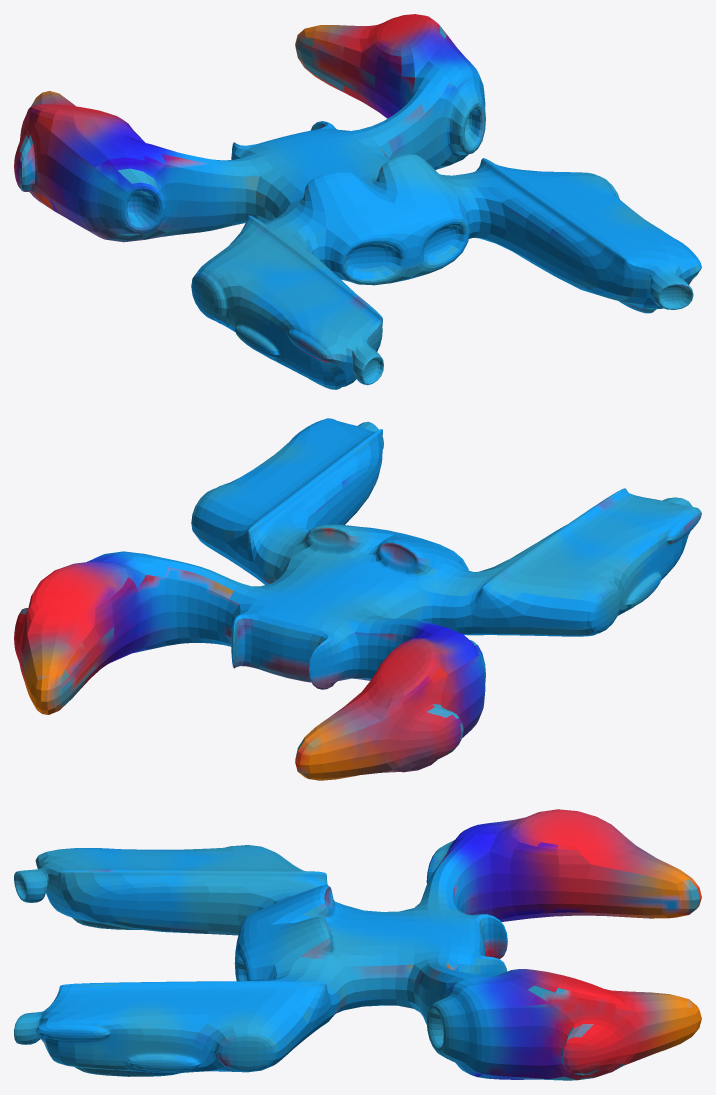
The model's file is particle3.glb.
3 renders of one model, top to bottom at view 1: azimuth 30°, elevation 25°; view 2: azimuth 150°, elevation 25°; view 3: azimuth 270°, elevation 25°, orthographic. The views are drawn at different scales.
Visible parts, largest first — view 1: 平面.003; view 2: 平面.003; view 3: 平面.003.
Part boxes in pixels (x1=…): 平面.003: x1=14, y1=14, x2=701, y2=389; 平面.003: x1=14, y1=418, x2=701, y2=780; 平面.003: x1=14, y1=809, x2=701, y2=1080.
Bounding box in the file's own units: 7.05 × 1.68 × 9.87.
Materials: 1 (1 with a texture image).
